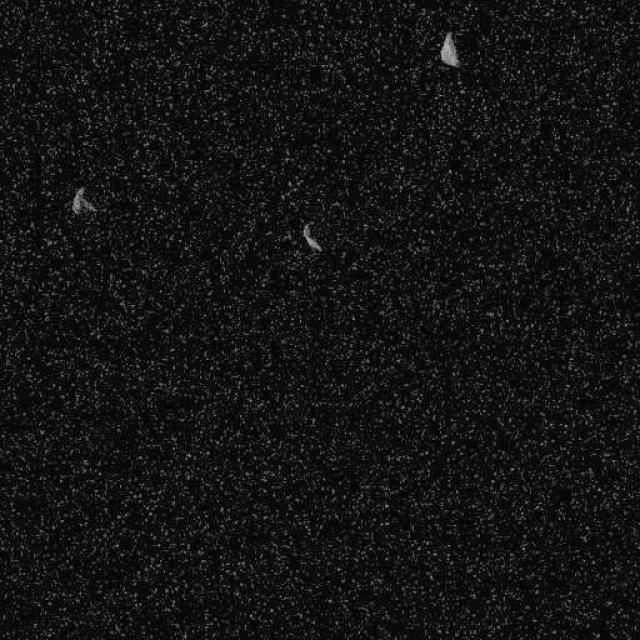D2: (439, 30, 461, 68), (70, 185, 96, 216), (300, 220, 321, 252)
